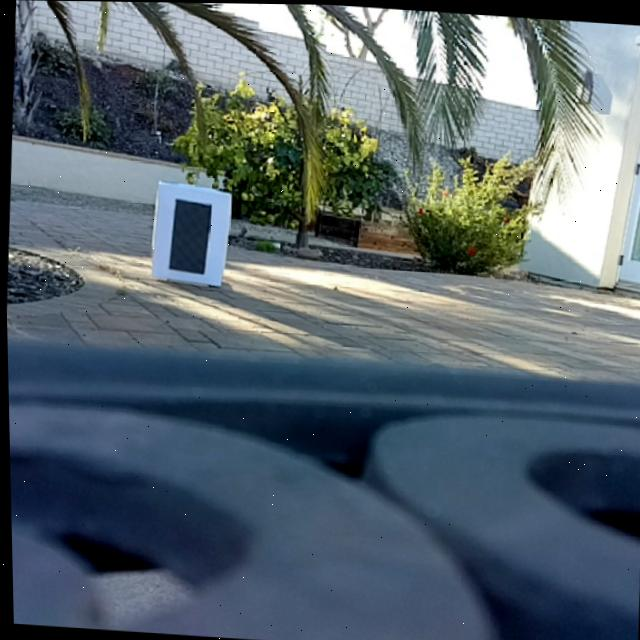led: (166, 192, 214, 278)
